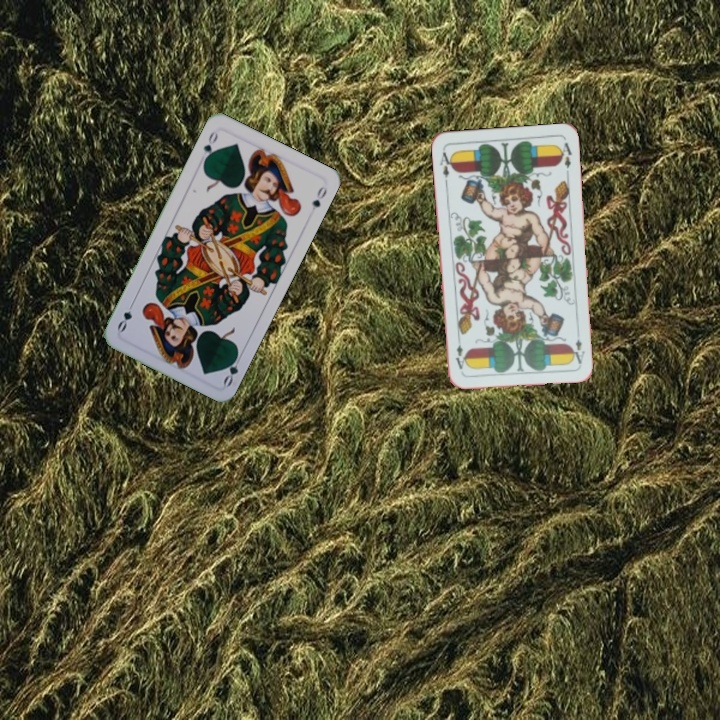EA: (436, 148, 455, 186), (569, 326, 587, 366)
GO: (219, 349, 245, 389), (199, 127, 220, 166)
